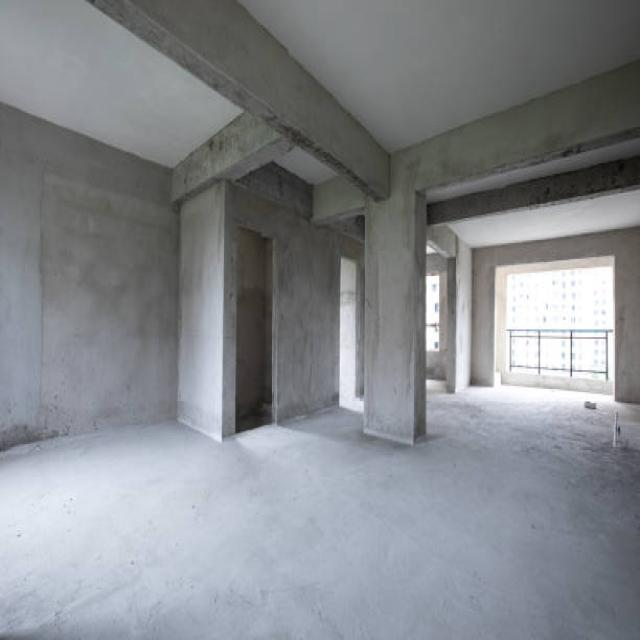floor: (0, 387, 640, 640)
wall: (363, 59, 640, 445), (0, 102, 180, 452), (85, 0, 390, 203), (128, 0, 390, 197), (224, 179, 365, 434), (471, 227, 640, 404), (176, 179, 224, 442), (170, 111, 283, 203), (170, 136, 296, 206), (427, 224, 474, 393), (233, 161, 313, 221), (414, 189, 427, 445), (270, 145, 339, 187), (427, 252, 447, 380), (312, 173, 368, 217), (446, 255, 456, 393), (309, 208, 366, 226)
